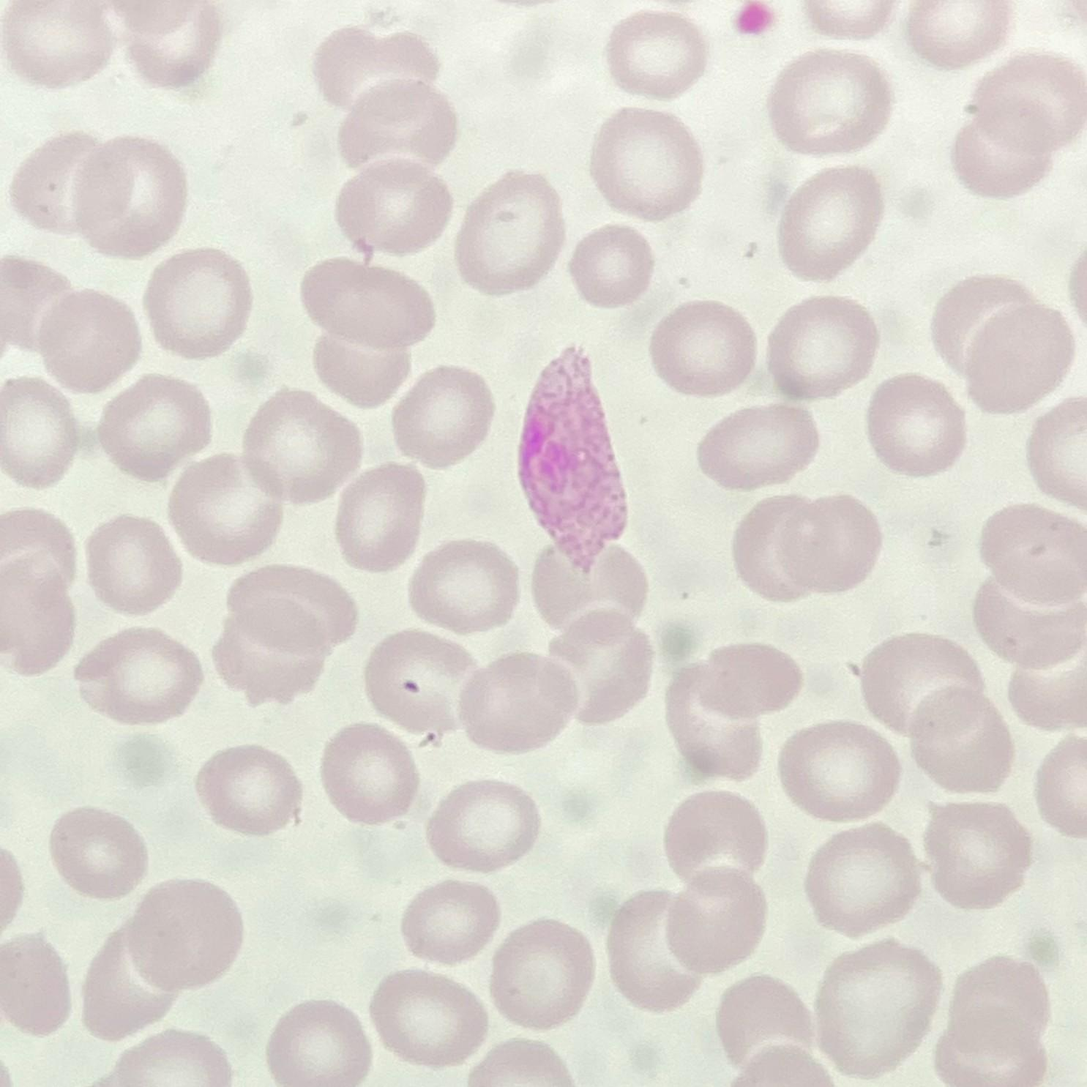Infected: (516, 344, 636, 574)
Uninfected: (811, 937, 943, 1072), (240, 386, 362, 509), (73, 132, 189, 255), (457, 171, 568, 293), (81, 904, 180, 1040), (765, 48, 892, 154), (73, 626, 208, 725), (130, 875, 246, 990), (860, 632, 987, 737), (959, 304, 1077, 416), (805, 822, 924, 932), (170, 456, 289, 566), (902, 683, 1017, 795), (362, 630, 485, 734), (13, 128, 135, 232), (212, 599, 327, 709), (549, 602, 652, 724), (463, 654, 582, 759), (99, 370, 213, 479), (776, 719, 902, 816), (300, 258, 438, 346), (968, 48, 1087, 150), (335, 81, 460, 178), (145, 246, 252, 359), (767, 295, 879, 402), (311, 26, 441, 118), (695, 399, 822, 492), (368, 968, 486, 1068), (593, 110, 703, 217), (609, 892, 706, 1013), (664, 666, 763, 784), (926, 800, 1033, 908), (776, 167, 882, 276), (33, 288, 142, 394), (970, 573, 1087, 671), (981, 502, 1087, 610), (388, 365, 494, 472), (490, 921, 592, 1031), (410, 540, 526, 636), (227, 568, 360, 651), (666, 866, 768, 974), (531, 537, 649, 630), (425, 780, 541, 873), (931, 277, 1041, 374), (333, 458, 428, 570), (732, 494, 833, 599), (320, 720, 420, 825), (333, 161, 454, 247), (664, 789, 766, 891), (783, 493, 885, 595), (84, 513, 183, 618), (948, 105, 1059, 198), (651, 302, 759, 397), (192, 745, 305, 835), (692, 639, 807, 725), (0, 0, 113, 86), (46, 807, 148, 901), (868, 374, 961, 476), (606, 8, 709, 100), (719, 976, 822, 1068), (269, 996, 372, 1087), (0, 374, 79, 492), (311, 319, 412, 408), (939, 1005, 1047, 1087), (399, 879, 502, 964), (908, 0, 1014, 72), (573, 222, 653, 311)
